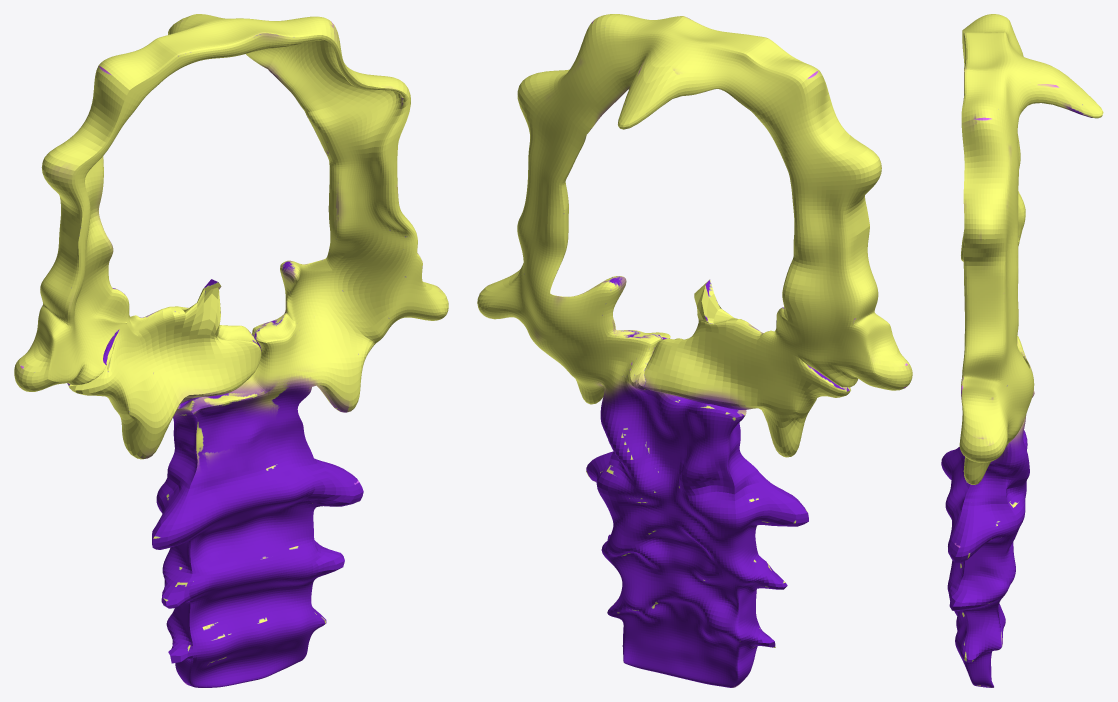
Rendered from CrackStav.fbx.
3 views of the same model, side by side, from view 1: azimuth 30°, elevation 25°; view 2: azimuth 150°, elevation 25°; view 3: azimuth 270°, elevation 25° (orthographic). The views are drawn at different scales.
Visible parts, largest first — view 1: Cube; view 2: Cube; view 3: Cube.
Part boxes in pixels (x1,y1,x2,y2): Cube: [14, 14, 448, 687]; Cube: [477, 14, 912, 687]; Cube: [941, 14, 1103, 687].
Bounding box in the file's own units: 2155 × 3133 × 763.
